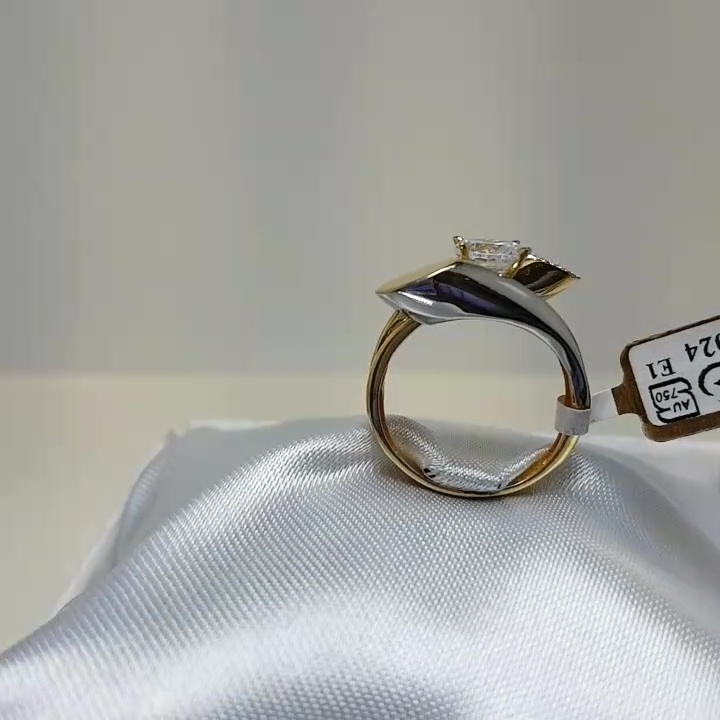Ring 7: (328, 221, 618, 516)
